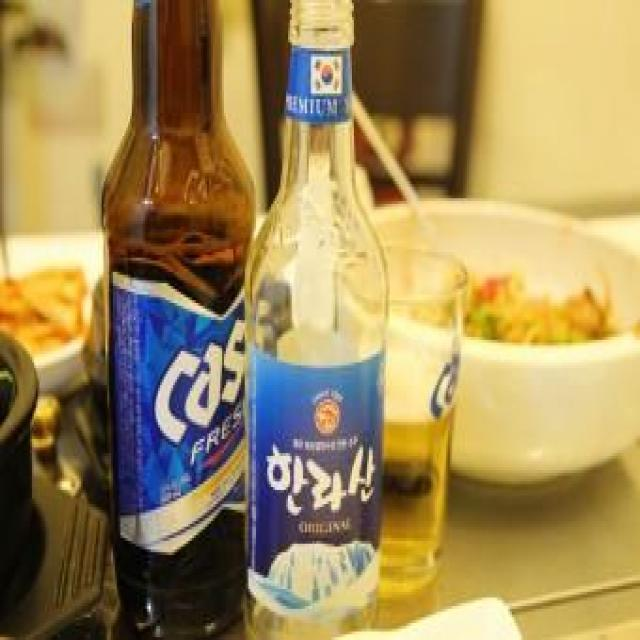beer-bottle: (98, 2, 256, 638)
soju-bottle: (243, 2, 388, 634)
